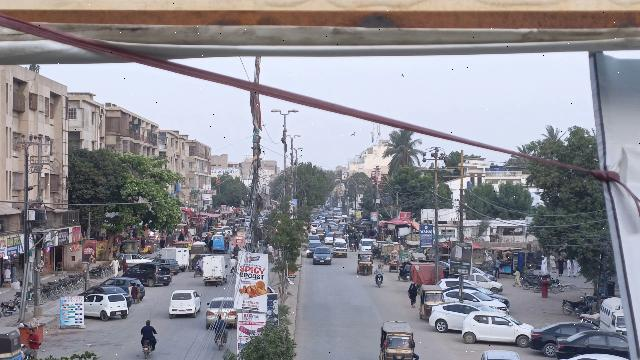Bike: (138, 339, 154, 358), (214, 332, 226, 351), (374, 273, 385, 291)
Car: (461, 311, 533, 346), (553, 328, 629, 359), (525, 320, 592, 352), (430, 300, 489, 332), (123, 261, 172, 286), (205, 295, 239, 331), (83, 294, 128, 321), (168, 289, 202, 318), (312, 245, 332, 267)
Person: (138, 319, 159, 340), (211, 311, 230, 333), (26, 329, 39, 358), (406, 280, 419, 309), (373, 262, 387, 274)
Rickshaw: (379, 321, 418, 360), (418, 284, 446, 322), (355, 251, 374, 277)
Suzuki: (598, 295, 625, 334)
Truck: (201, 255, 230, 287), (159, 245, 190, 269)
